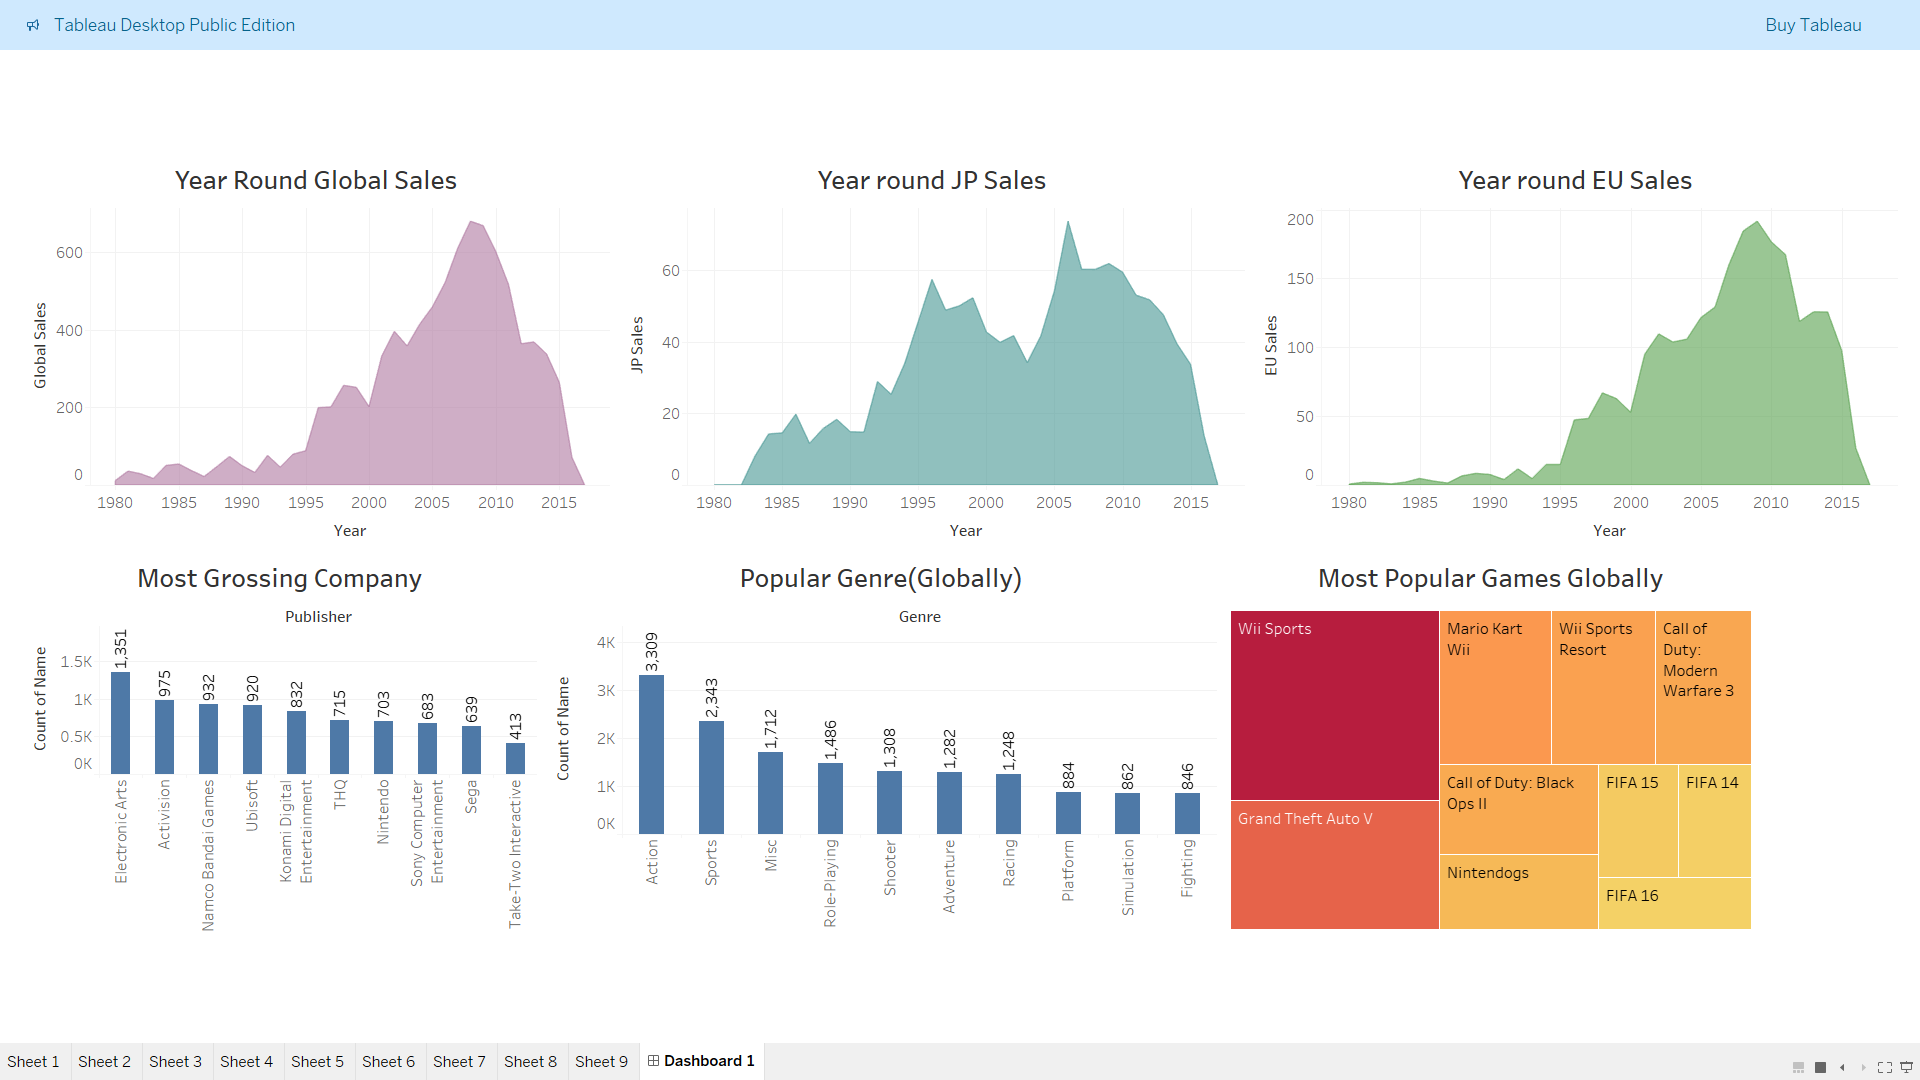

This screenshot's page, from the dashboard's own definition file:
{"tool":"tableau","page":{"name":"Dashboard 1","canvas":[1000,1000],"units":"permille","ordinal":0},"visuals":[{"type":"worksheet","title":"Sheet 5","mark":"Area","rows":["Global_Sales"],"cols":["Year"],"box":[4.9,10.2,313.5,497]},{"type":"worksheet","title":"Sheet 4","mark":"Area","rows":["JP_Sales"],"cols":["Year"],"box":[318.4,10.2,333.4,497]},{"type":"worksheet","title":"Sheet 3","mark":"Area","rows":["EU_Sales"],"cols":["Year"],"box":[651.8,10.2,343.3,497]},{"type":"worksheet","title":"Sheet 6","mark":"Automatic","rows":["Name"],"cols":["Publisher"],"box":[4.9,507.3,275,482.5]},{"type":"worksheet","title":"Sheet 7","mark":"Automatic","rows":["Name"],"cols":["Genre"],"box":[279.9,507.3,357.6,482.5]},{"type":"worksheet","title":"Sheet 1","mark":"Automatic","box":[637.5,507.3,357.6,482.5]}]}

Visuals, with their boxes on the dashboard's canvas, which has no fixed pixel size, in thousandths of its width and height (x1, y1, x2, y2). These are canvas units, not pixel positions in the 1920x1080 screenshot, which may show the page scaled, cropped or inside an application window:
"Sheet 5" worksheet (Area marks): 5,10,318,507
"Sheet 4" worksheet (Area marks): 318,10,652,507
"Sheet 3" worksheet (Area marks): 652,10,995,507
"Sheet 6" worksheet: 5,507,280,990
"Sheet 7" worksheet: 280,507,638,990
"Sheet 1" worksheet: 638,507,995,990
